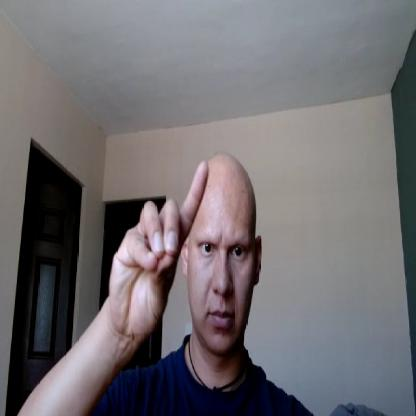D: (107, 161, 212, 338)
